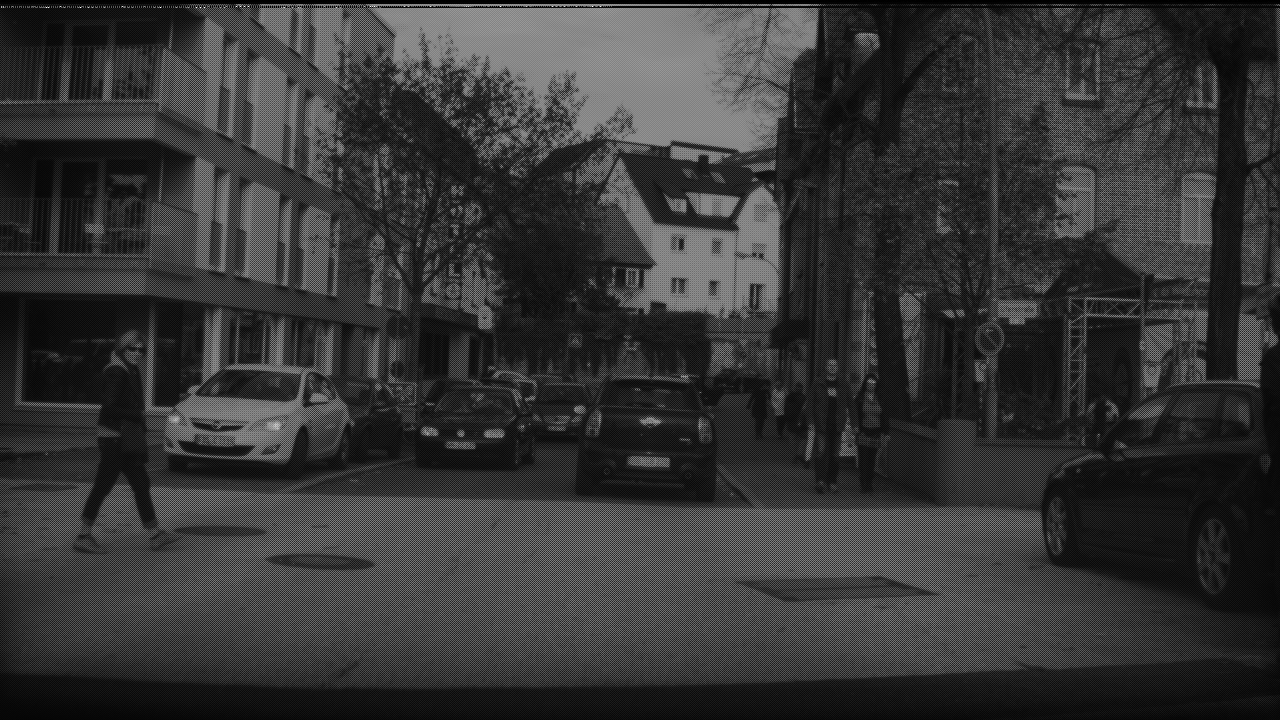pole: (982, 6, 998, 435)
